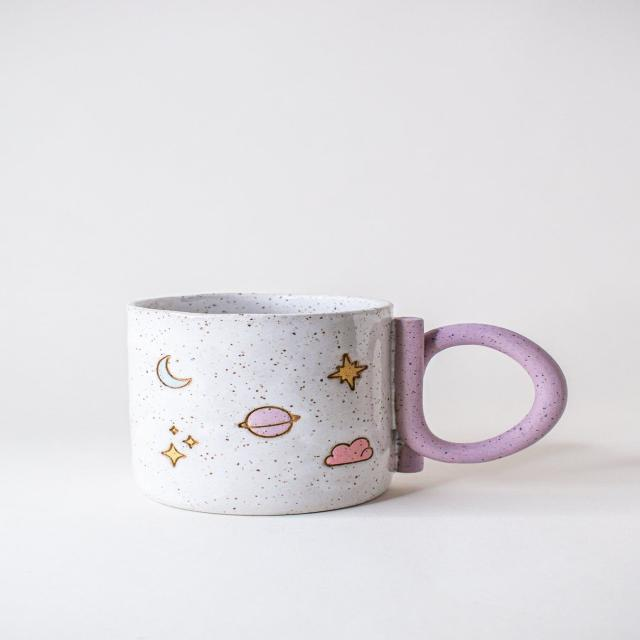glass cup: (128, 291, 569, 518)
